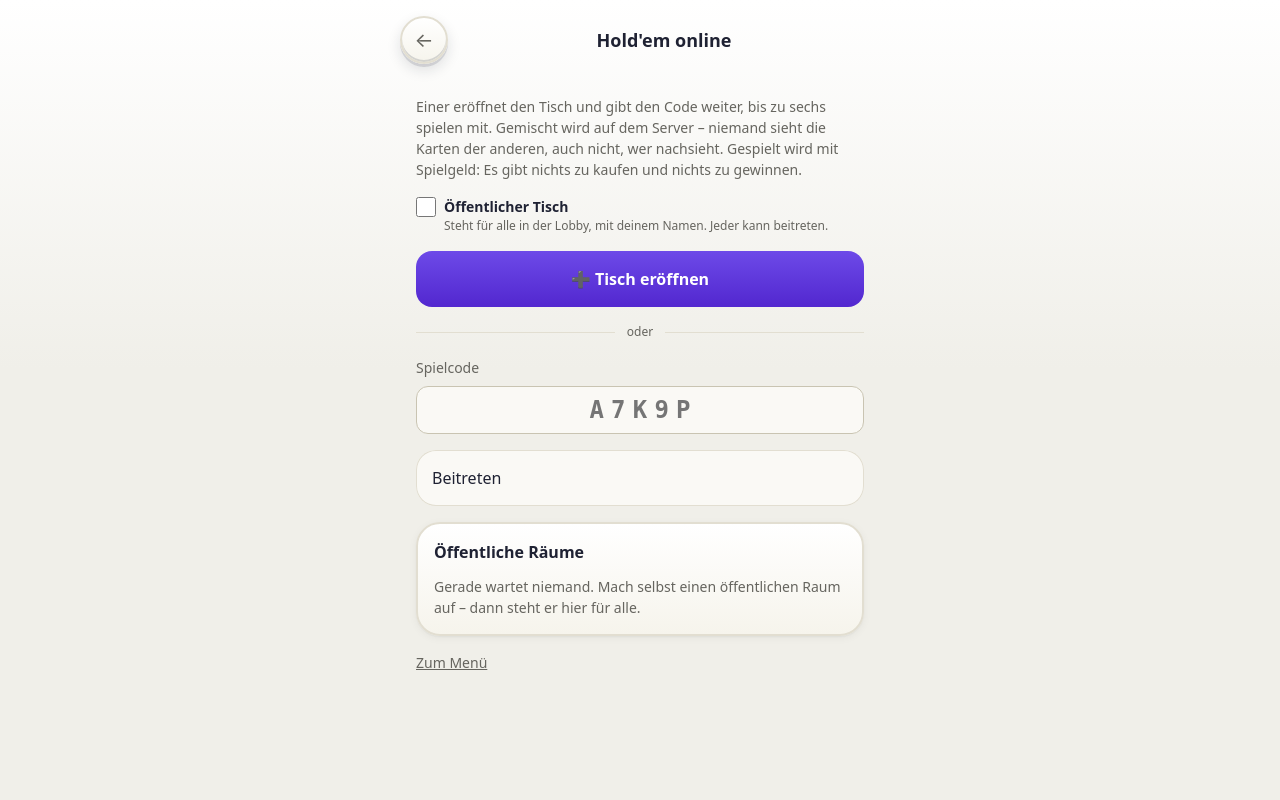
Test case: Texas Hold’em online › deckt beim Showdown nur auf, was der Server schickt – und benennt die Hand
Click the button "➕ Tisch eröffnen". click: x=640, y=279
box: [416,251,864,307]
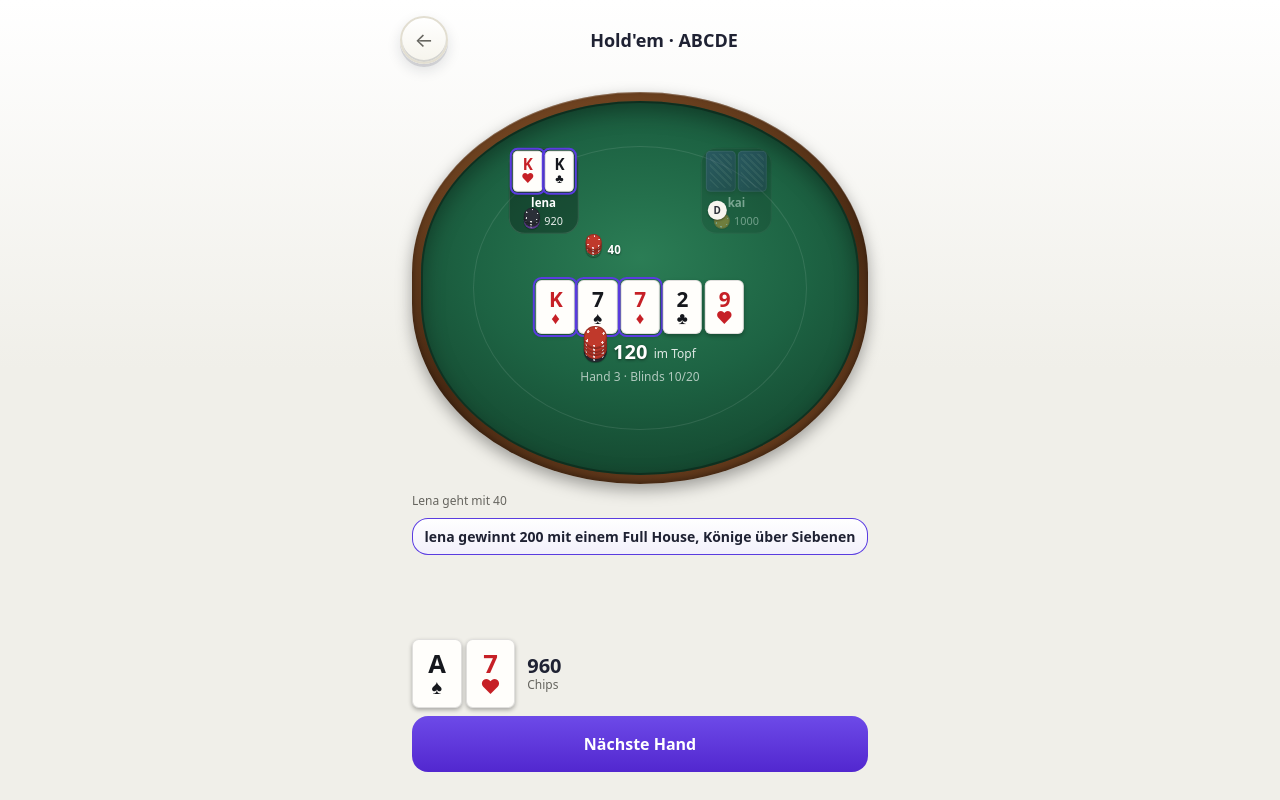
Result: the element named "Tischmitte" is shown at [536,280,744,385]
Result: the text "lena gewinnt 200 mit einem Full House, Könige über Siebenen" is shown at [412,518,868,555]
